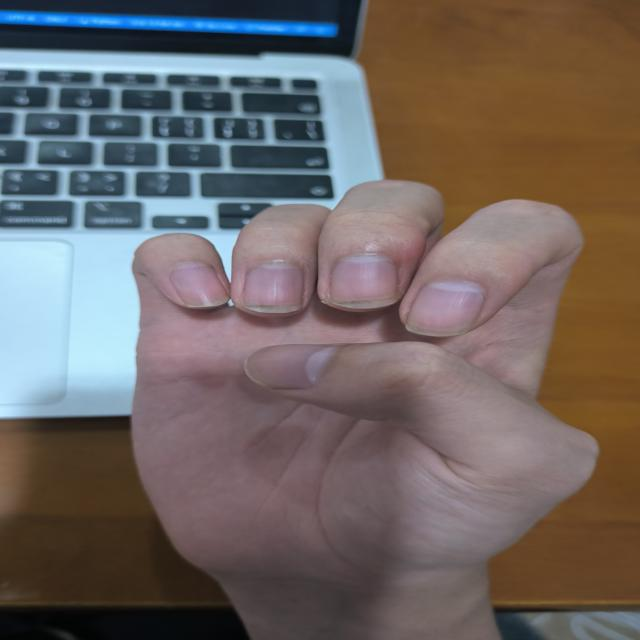Nail: (244, 344, 343, 390), (407, 281, 486, 335), (331, 256, 398, 308), (243, 263, 304, 313), (169, 262, 230, 307)
